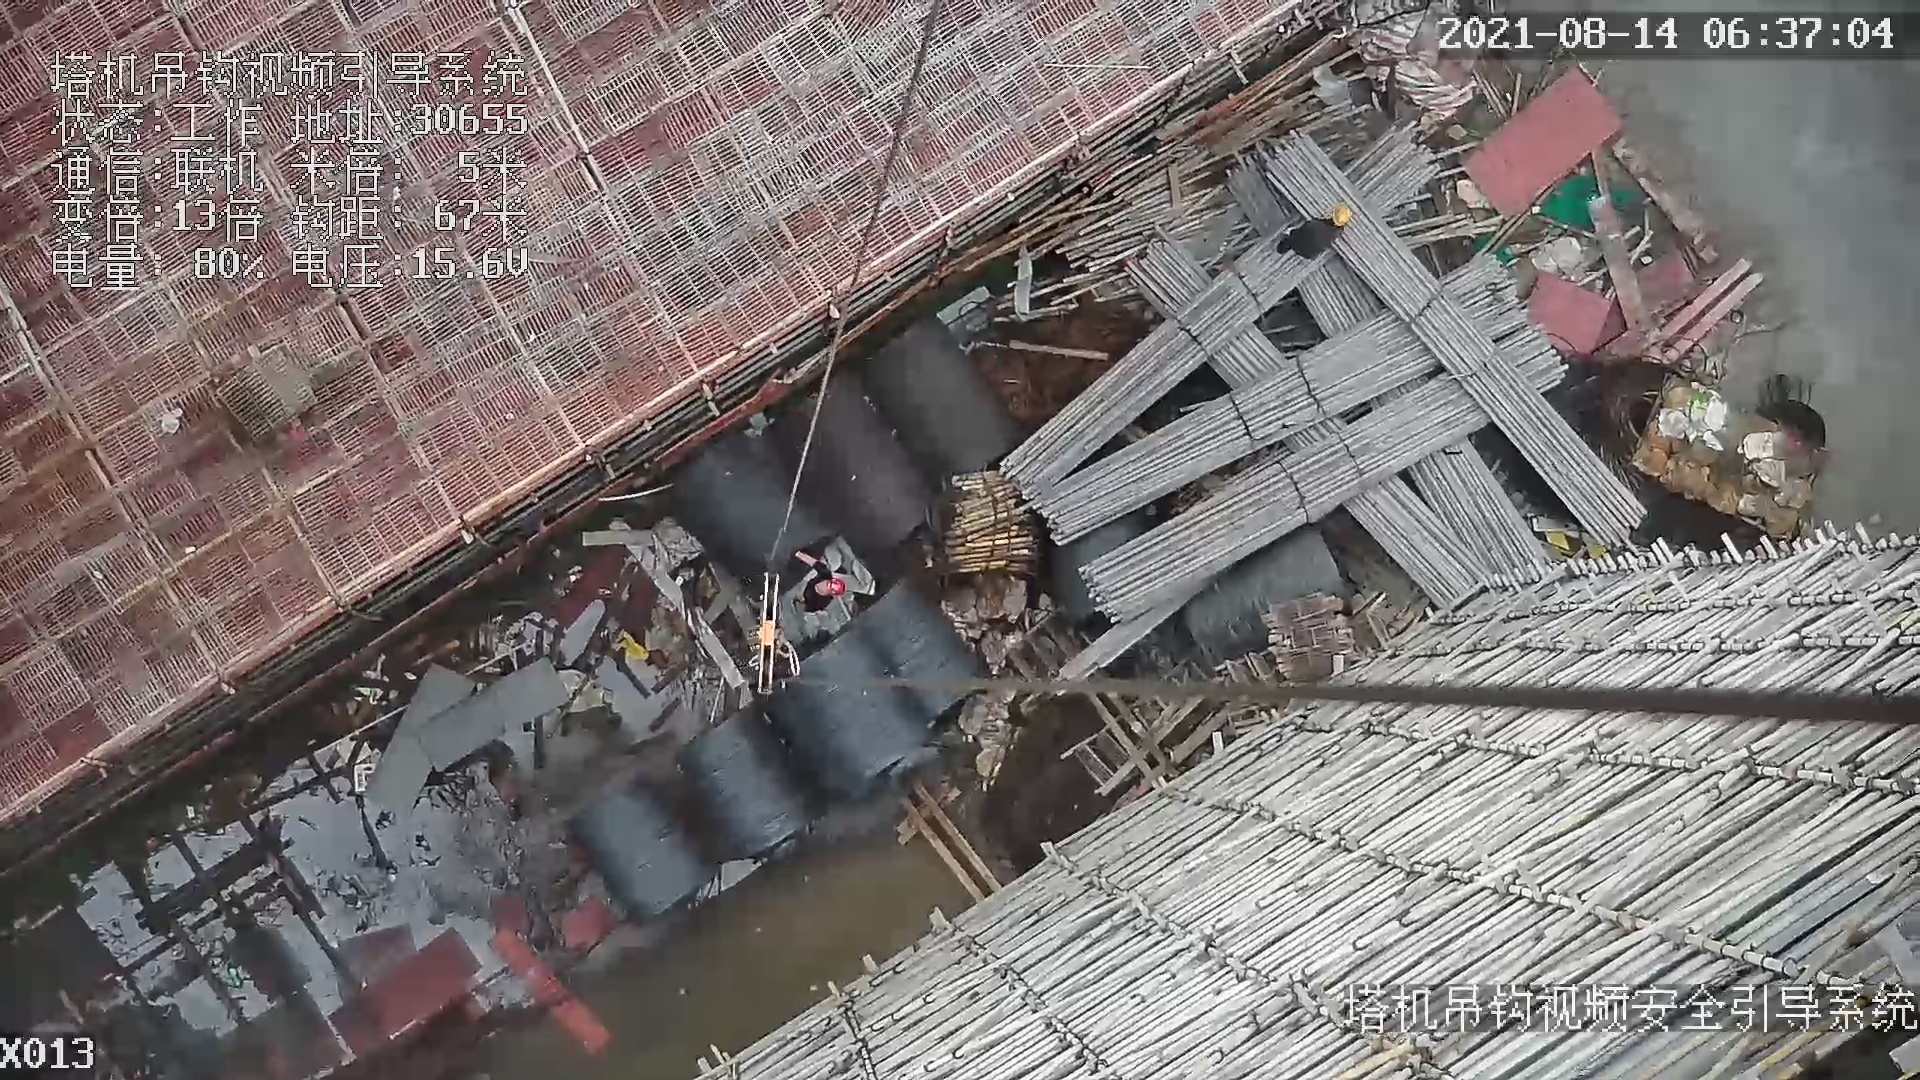helmet: (1333, 202, 1352, 232), (827, 576, 848, 600)
hook: (753, 569, 786, 697)
person: (1274, 196, 1354, 263), (794, 546, 846, 618)
scaffold: (1060, 113, 1650, 624), (935, 462, 1051, 585)
